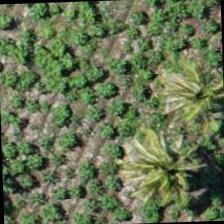Kelapa_Sawit: (130, 34, 224, 127), (126, 120, 218, 214)
